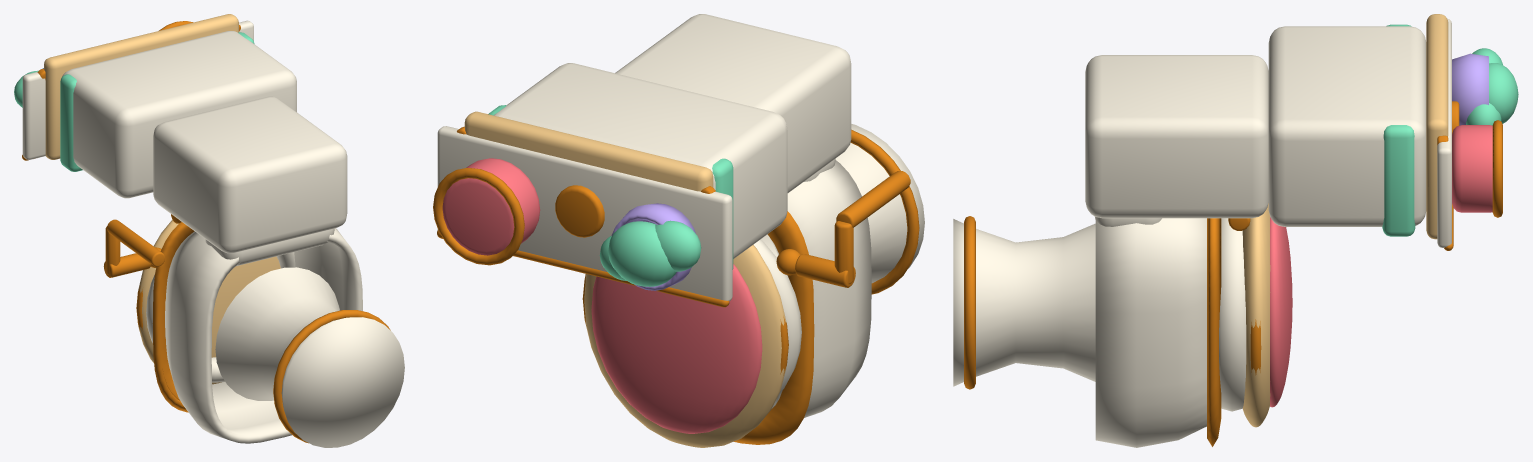
File: BathroomToilet_Premium.fbx
The picture shows the model from 3 angles, left to right: view 1: azimuth 30°, elevation 25°; view 2: azimuth 150°, elevation 25°; view 3: azimuth 270°, elevation 25°; orthographic projection. The views are drawn at different scales.
Parts seen in each view (by area): view 1: BathroomToilet; view 2: BathroomToilet; view 3: BathroomToilet.
Boxes of the visible parts, <box> form: BathroomToilet: <box>14,14,404,447</box>; BathroomToilet: <box>433,14,924,447</box>; BathroomToilet: <box>953,14,1518,447</box>.
Bounding box in the file's own units: 0.8853 × 1.08 × 1.54.
